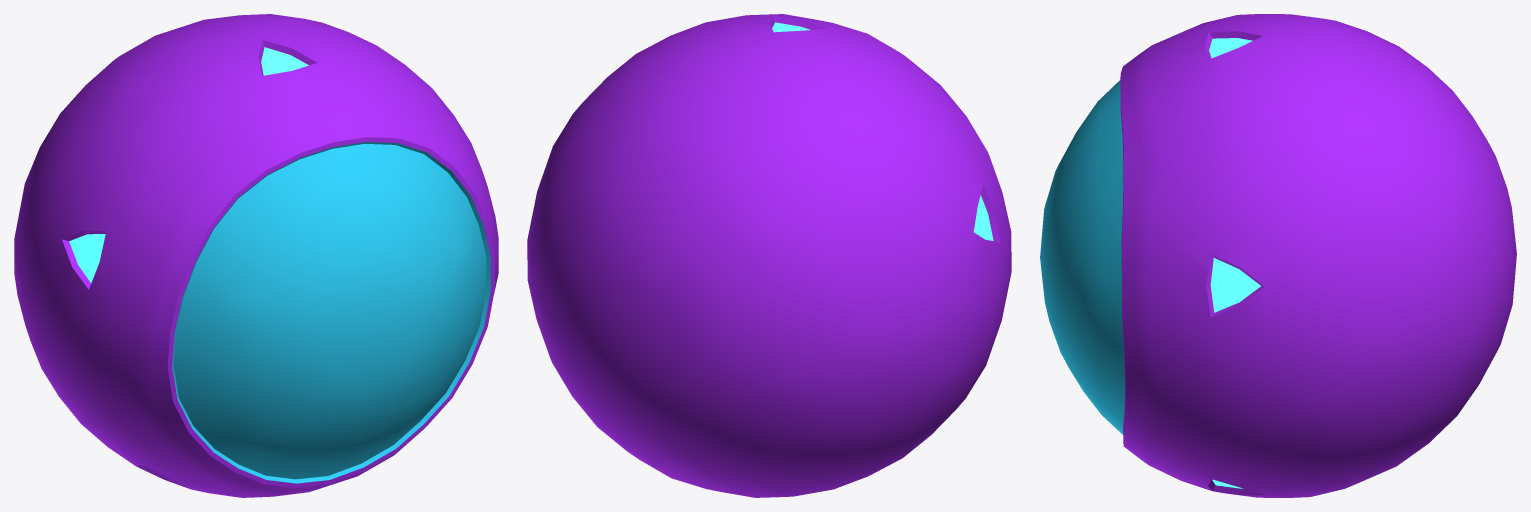
File: Purple_Incubator_01.f395aad6.gltf
3 views of the same model, side by side, from view 1: azimuth 30°, elevation 25°; view 2: azimuth 150°, elevation 25°; view 3: azimuth 270°, elevation 25° (orthographic).
Parts seen in each view (by area): view 1: pPlatonic6.006; view 2: pPlatonic6.006; view 3: pPlatonic6.006.
Part boxes in pixels (bbox=[...]): pPlatonic6.006: bbox=[14, 14, 498, 497]; pPlatonic6.006: bbox=[527, 14, 1011, 497]; pPlatonic6.006: bbox=[1040, 14, 1516, 497].
Bounding box in the file's own units: 4.99 × 5 × 4.9.
